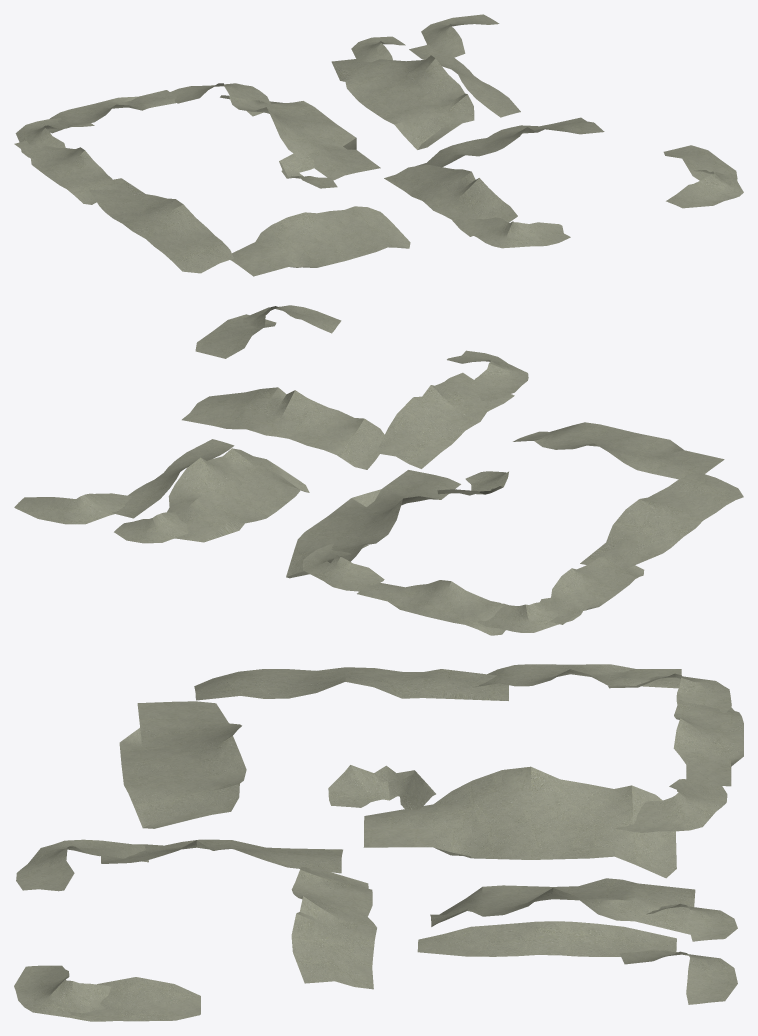
File: SM_Corridor_08_06.fbx
3 renders of one model, top to bottom at view 1: azimuth 30°, elevation 25°; view 2: azimuth 150°, elevation 25°; view 3: azimuth 270°, elevation 25°, orthographic. The views are drawn at different scales.
Parts seen in each view (by area): view 1: SM_Corridor_08_06; view 2: SM_Corridor_08_06; view 3: SM_Corridor_08_06.
Boxes of the visible parts, left/top/right/bottom form: SM_Corridor_08_06: left=14, top=14, right=743, bottom=276; SM_Corridor_08_06: left=14, top=305, right=743, bottom=635; SM_Corridor_08_06: left=14, top=664, right=743, bottom=1021.
Bounding box in the file's own units: 4269 × 398 × 3683.
